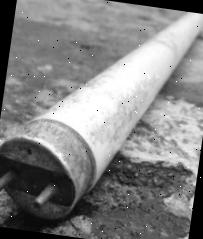lightbulb: (0, 0, 203, 238)
